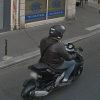Motorcycle: (14, 40, 94, 100)
